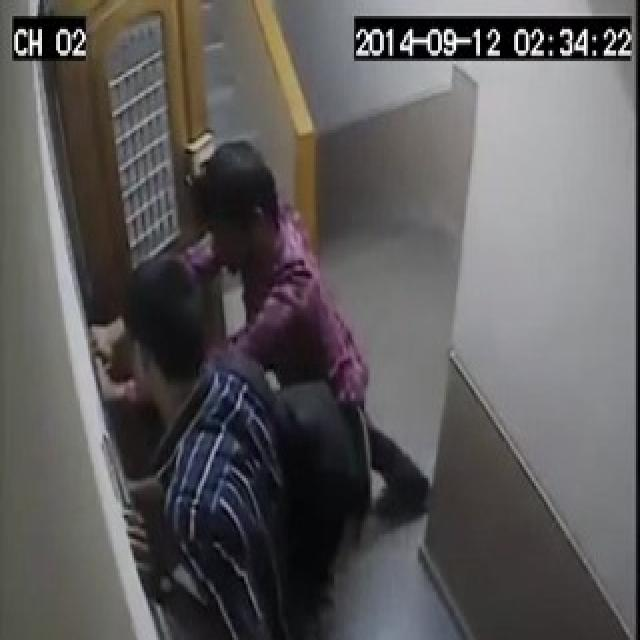burglary: (47, 252, 225, 542)
